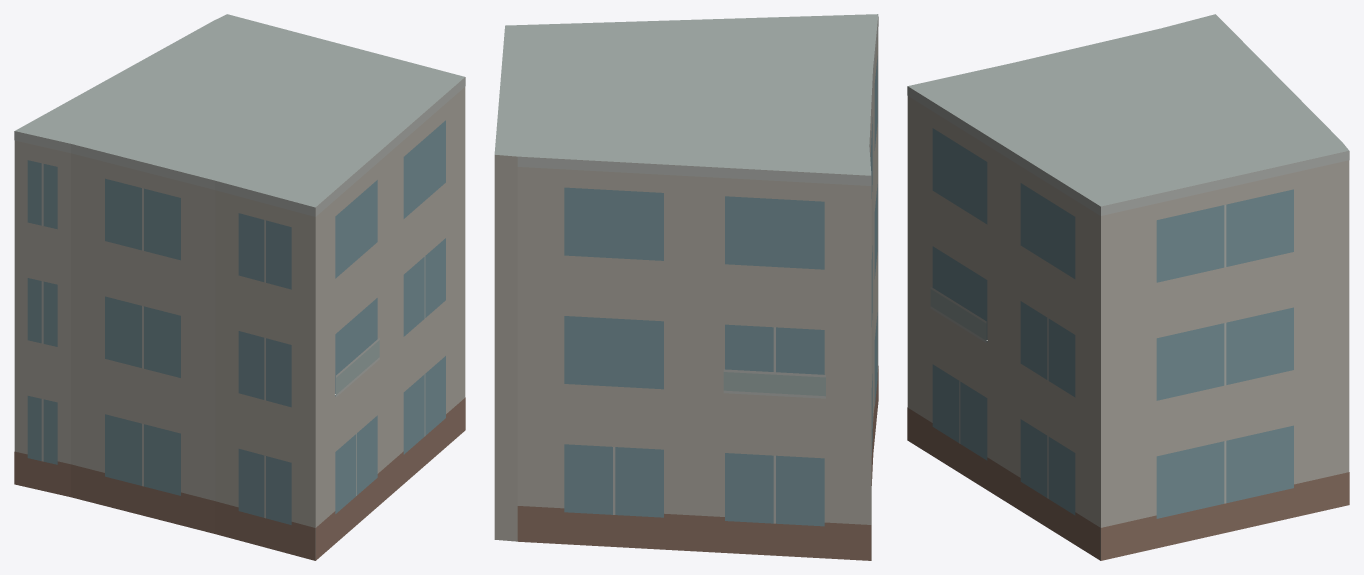
File: survey-upis-32992443.glb
3 renders of one model, left to right at view 1: azimuth 30°, elevation 25°; view 2: azimuth 150°, elevation 25°; view 3: azimuth 270°, elevation 25°, orthographic. The views are drawn at different scales.
Visible parts, largest first — view 1: survey-upis-32992443.tmp; view 2: survey-upis-32992443.tmp; view 3: survey-upis-32992443.tmp.
Boxes of the visible parts, left/top/right/bottom form: survey-upis-32992443.tmp: left=14, top=14, right=465, bottom=560; survey-upis-32992443.tmp: left=494, top=14, right=878, bottom=560; survey-upis-32992443.tmp: left=907, top=14, right=1349, bottom=560.
Bounding box in the file's own units: 10.62 × 9.1 × 10.29.
